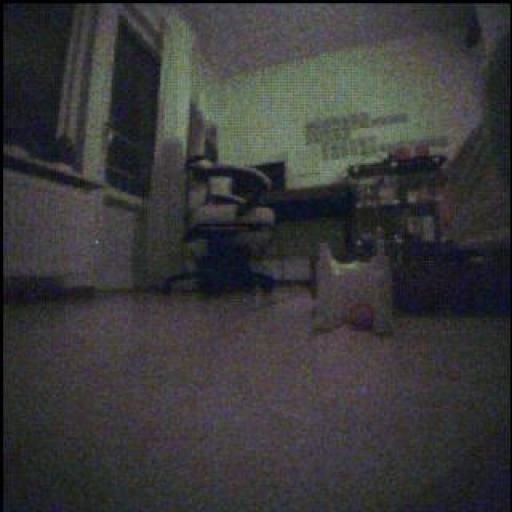basket: (349, 301, 376, 333)
